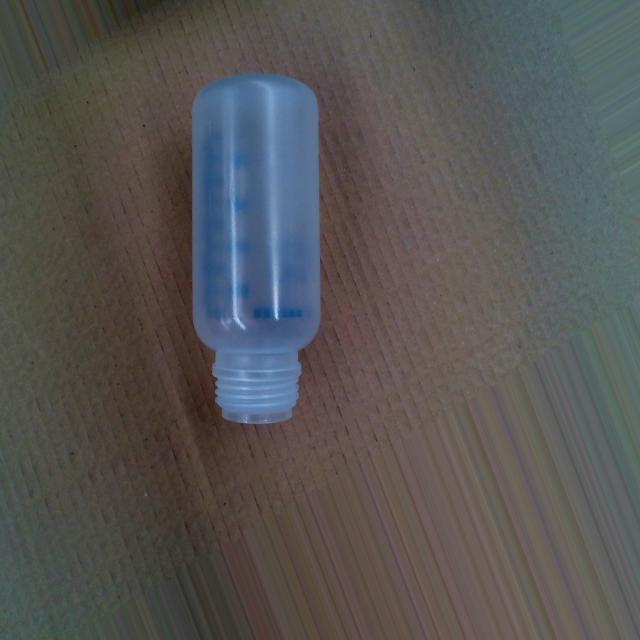bottle: (189, 68, 324, 427)
